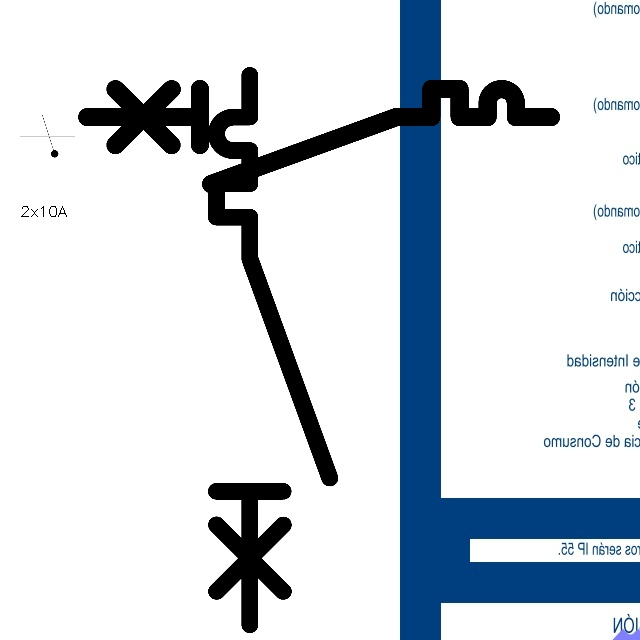interruptor_termomagnetico: (202, 61, 343, 639), (75, 77, 563, 196)
